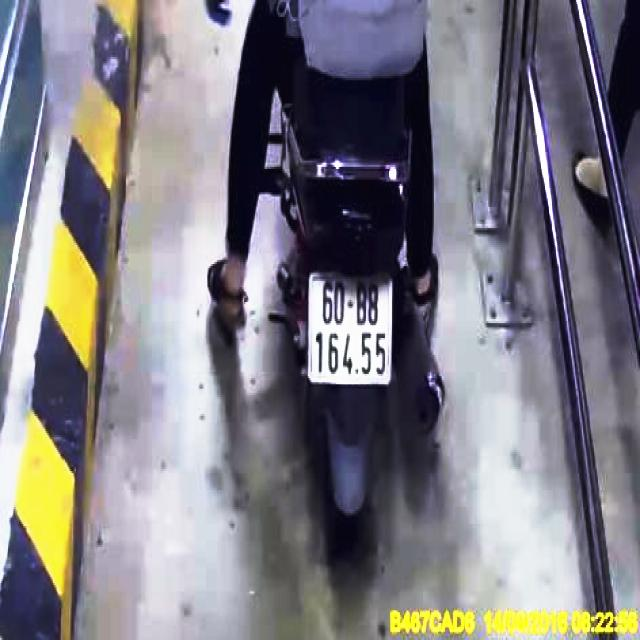license_plate: (312, 279, 395, 384)
